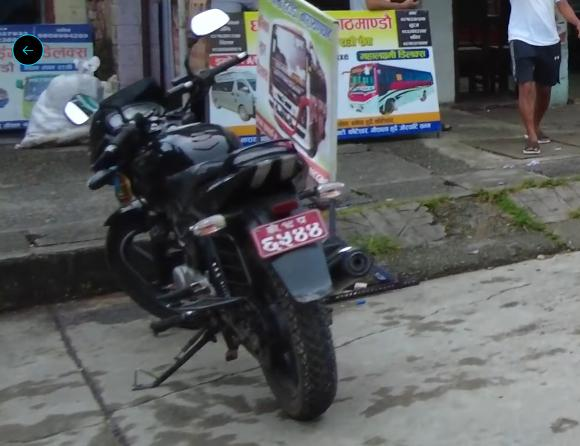bike: (57, 7, 370, 422)
